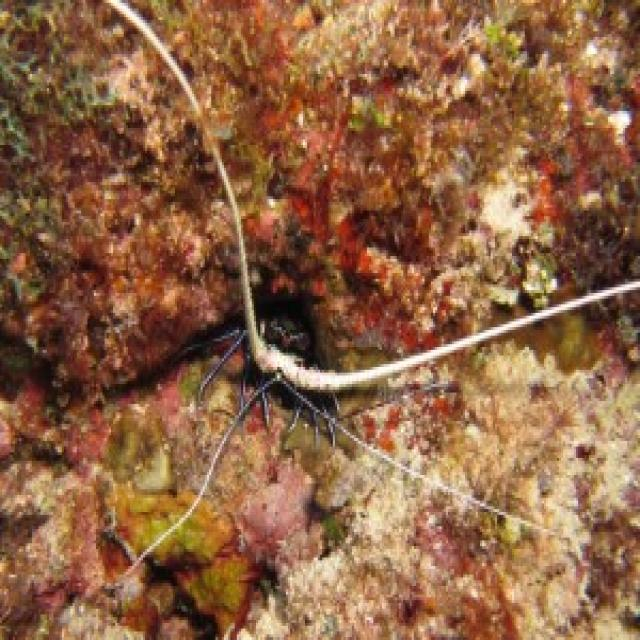lobsters: (141, 173, 508, 532)
